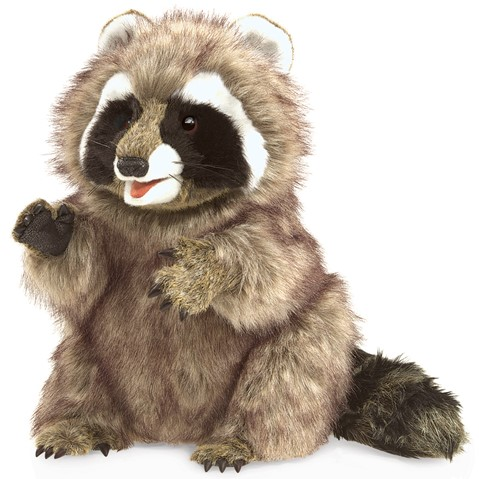raccoon: (12, 3, 471, 479)
